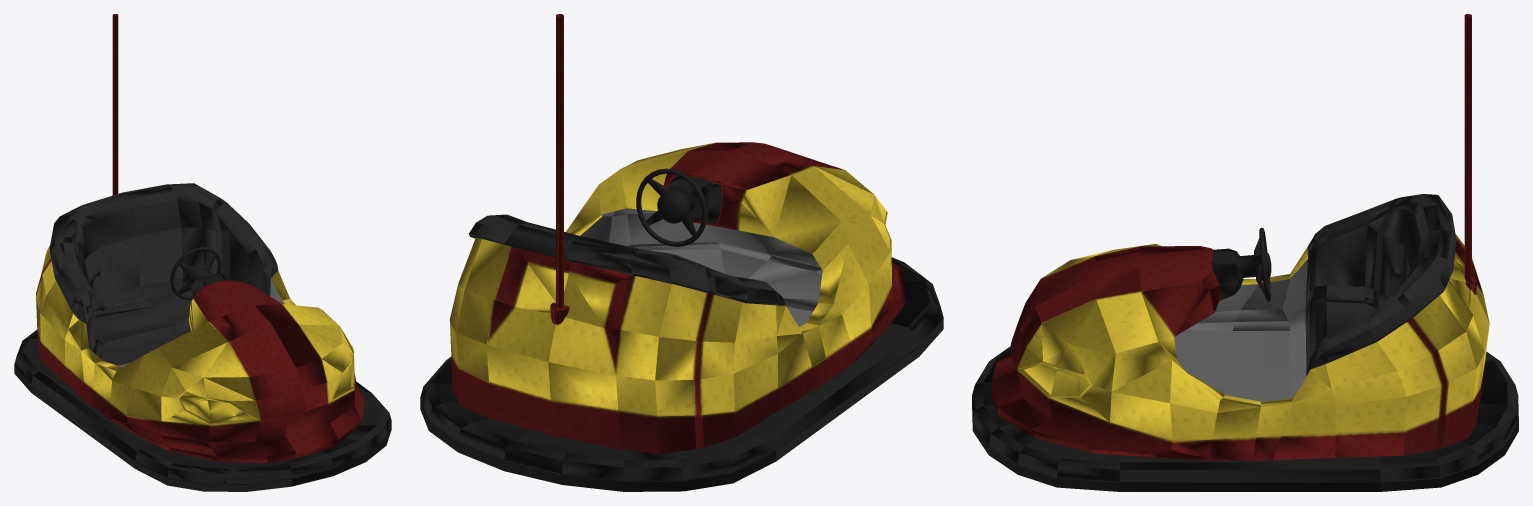
The model's file is CarLowPoly06.FBX.
3 renders of one model, left to right at view 1: azimuth 30°, elevation 25°; view 2: azimuth 150°, elevation 25°; view 3: azimuth 270°, elevation 25°, orthographic. The views are drawn at different scales.
Parts seen in each view (by area): view 1: punk__LowPoly, Object001; view 2: punk__LowPoly, Object001; view 3: punk__LowPoly, Object001.
Boxes of the visible parts, x1,y1,x2,y2 form: punk__LowPoly: (14,14,391,491); Object001: (170,247,221,299); punk__LowPoly: (420,14,943,491); Object001: (636,168,707,246); punk__LowPoly: (972,14,1518,491); Object001: (1235,227,1271,301).
Bounding box in the file's own units: 147 × 188 × 230.
Materials: 1 (1 with a texture image).
